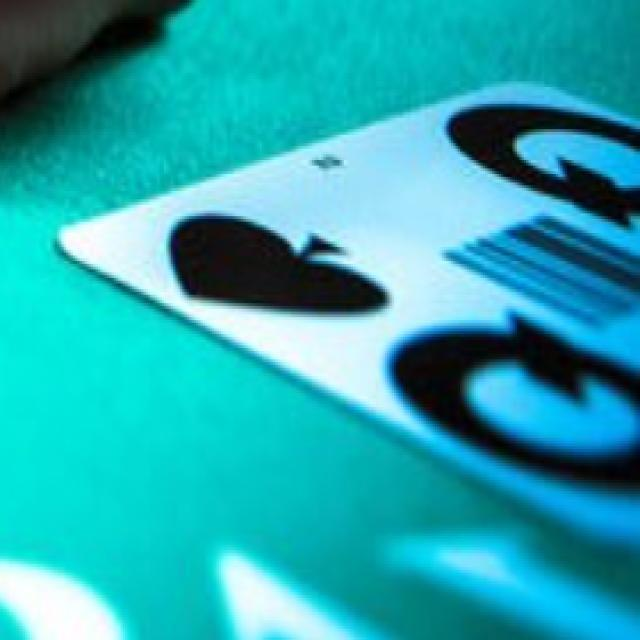Card-Q: (59, 80, 640, 552)
